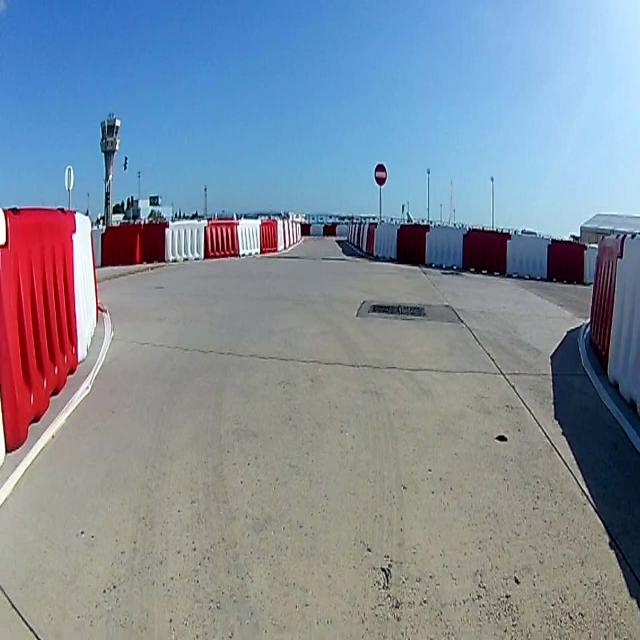girisyok: (374, 162, 388, 185)
